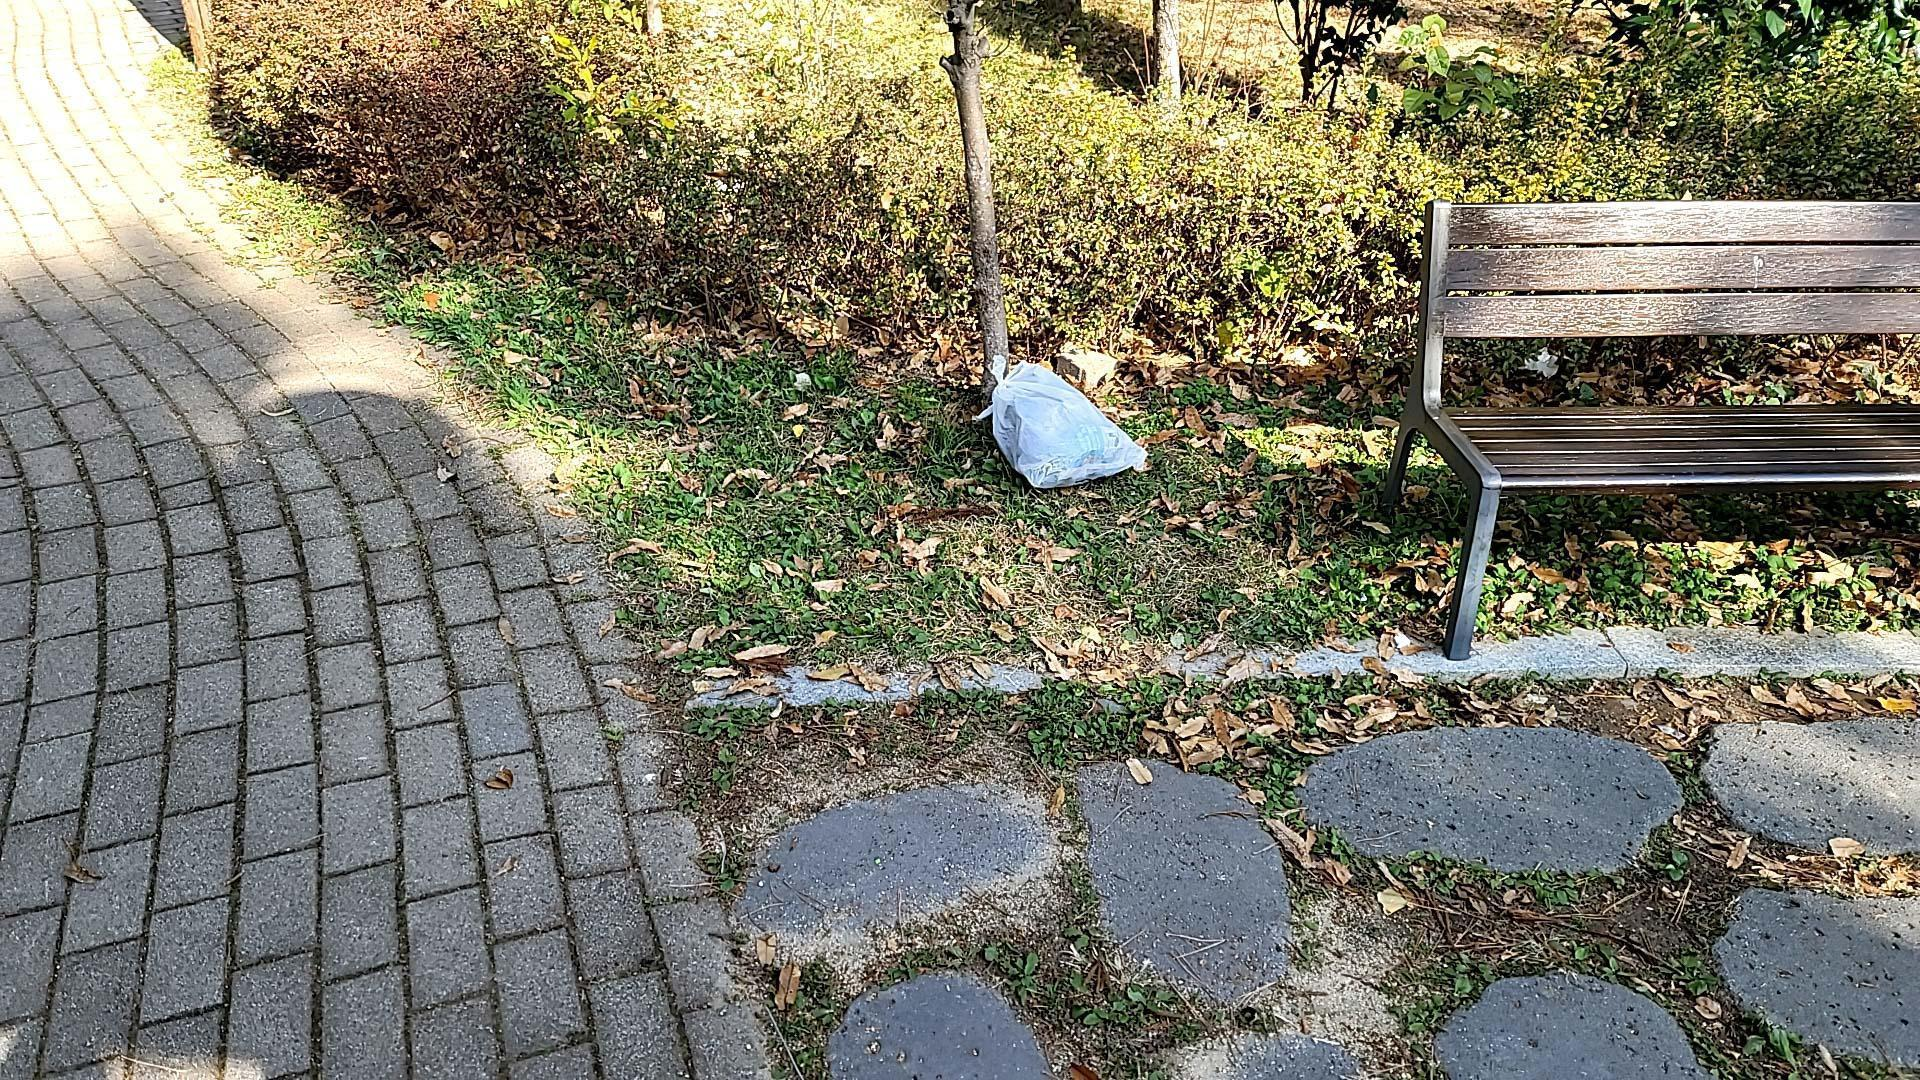white_bag: (961, 345, 1156, 496)
